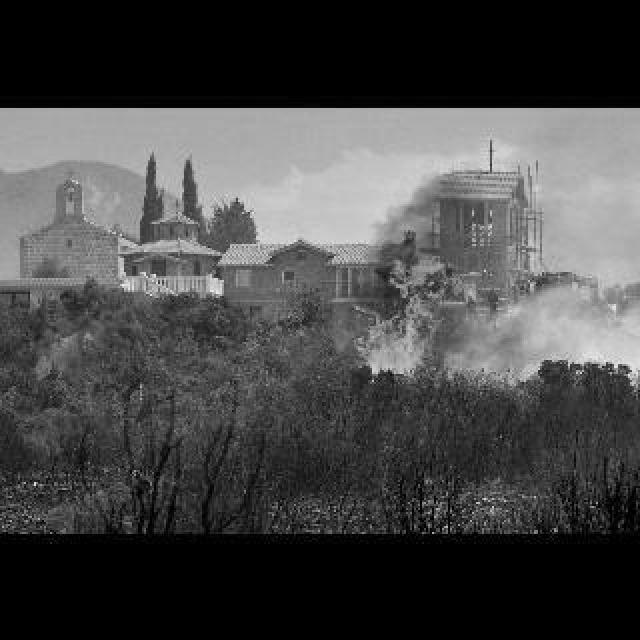Fire: (348, 258, 462, 376), (606, 298, 618, 310)
Smoke: (456, 272, 598, 378), (370, 170, 466, 268)
